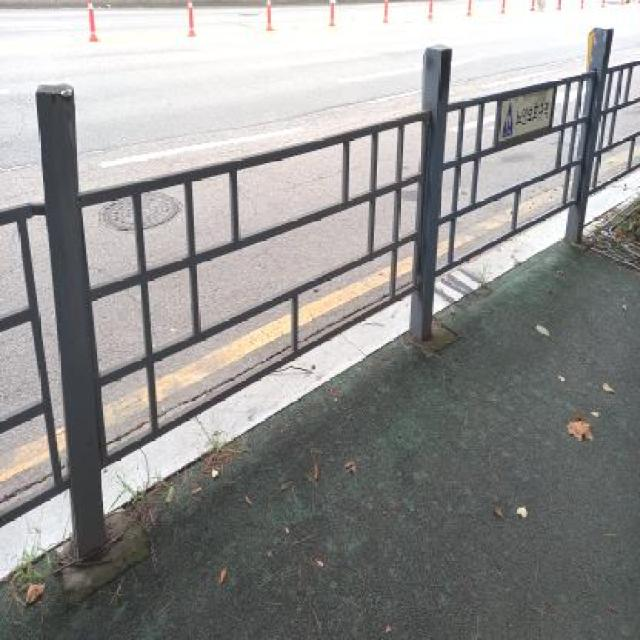fence: (16, 94, 497, 364), (397, 12, 640, 309)
